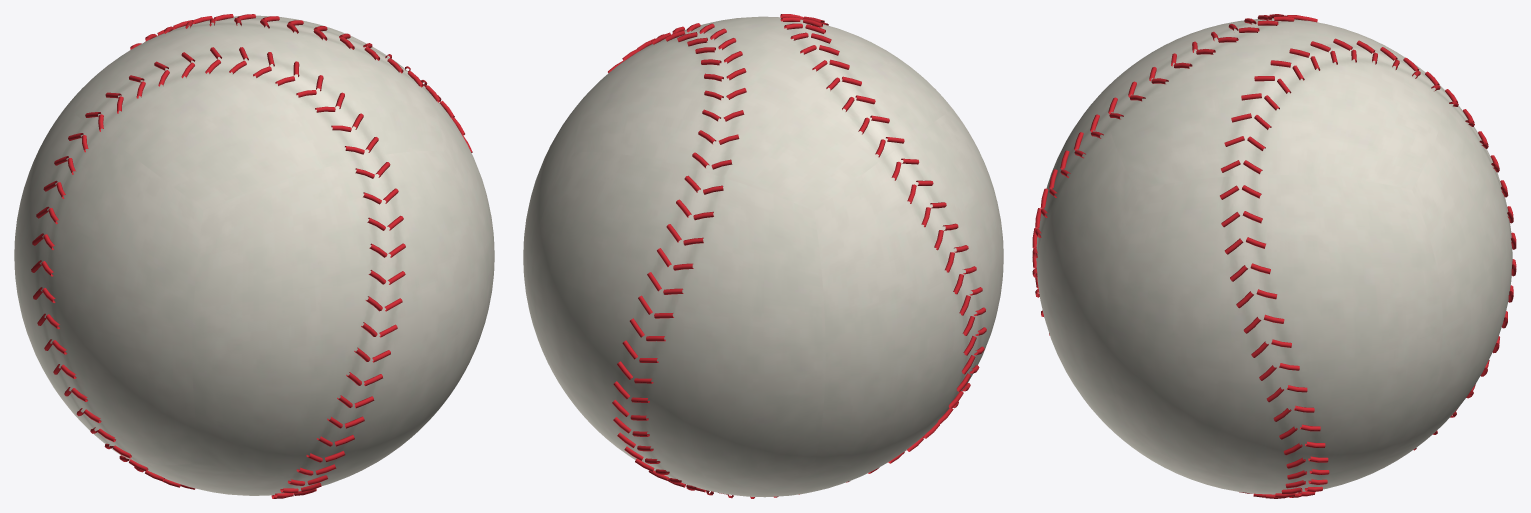
Rendered from ball.glb.
3 views of the same model, side by side, from view 1: azimuth 30°, elevation 25°; view 2: azimuth 150°, elevation 25°; view 3: azimuth 270°, elevation 25° (orthographic).
Parts seen in each view (by area): view 1: ball_mesh, ball_stitches; view 2: ball_mesh, ball_stitches; view 3: ball_mesh, ball_stitches.
Boxes of the visible parts, box(x1,y1,x2,y2) form: ball_mesh: box(14, 15, 494, 495); ball_stitches: box(31, 14, 472, 498); ball_mesh: box(523, 16, 1003, 497); ball_stitches: box(608, 14, 986, 498); ball_mesh: box(1036, 18, 1512, 494); ball_stitches: box(1032, 14, 1516, 498).
Size of the model in its own units: 0.075 by 0.0744 by 0.075.
Materials: 2 (1 with a texture image).
